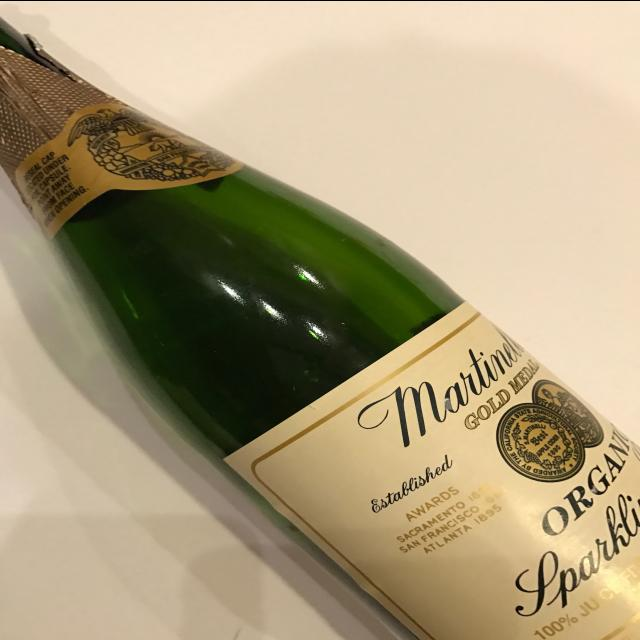glass: (0, 18, 640, 640)
